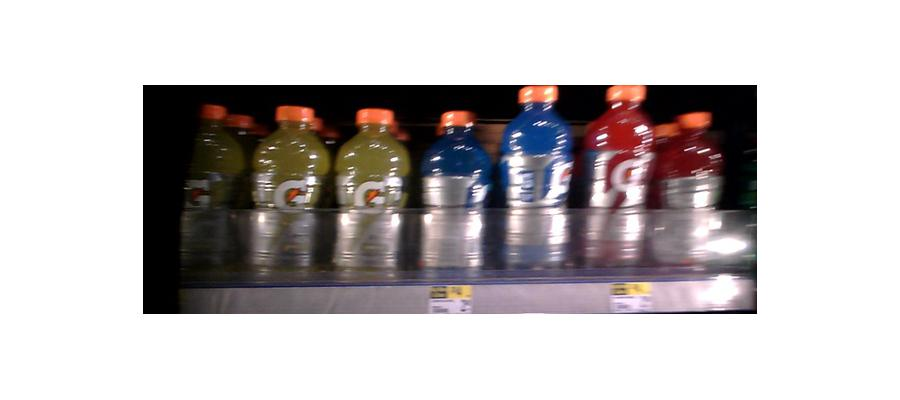bottle: (499, 78, 575, 273), (578, 80, 655, 272), (249, 101, 324, 285), (332, 105, 408, 286), (418, 108, 490, 284), (180, 101, 243, 283), (652, 112, 723, 273)
